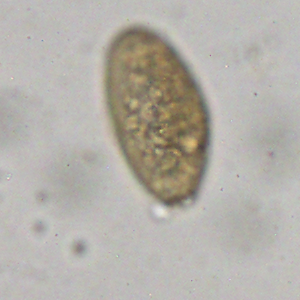Fasciola_hepatica_egg: (104, 24, 212, 207)
